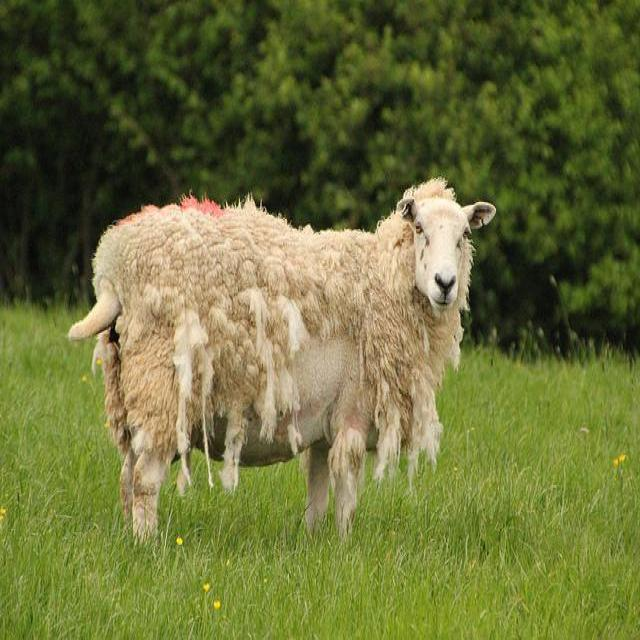Sheep: (69, 182, 504, 562)
